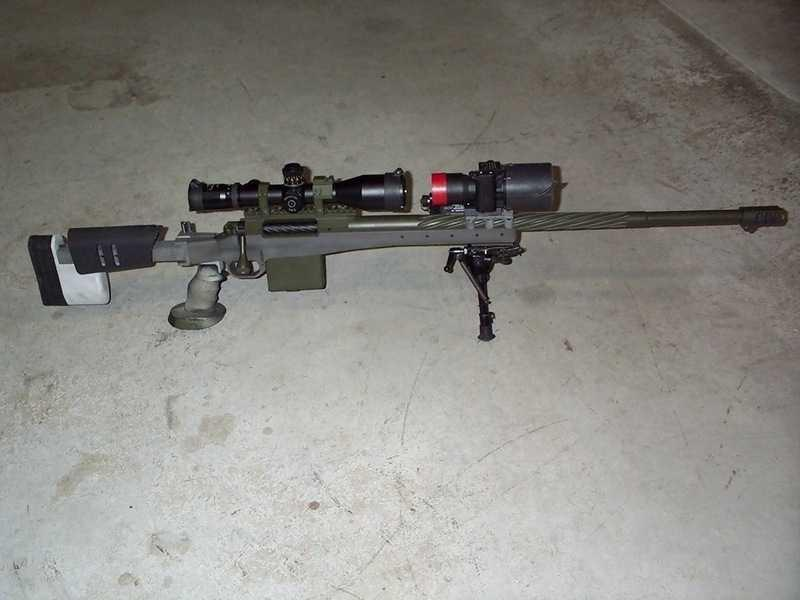heavyweapon: (32, 127, 795, 382)
